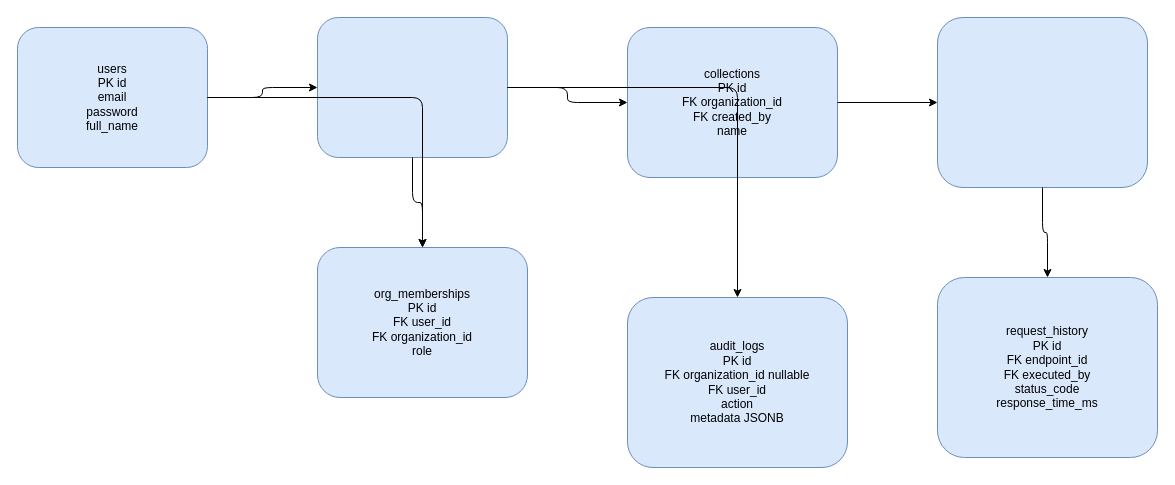
Some shapes in this 1175 by 485 pixel diagram are drawn without their labels. The shapes that lost their labels are listed below. From the top down, each one's centre as x and y in pixels, then its label:
point (412, 87): organizations PK id FK owner_id name slug
point (1042, 102): endpoints PK id FK collection_id method url headers JSONB
